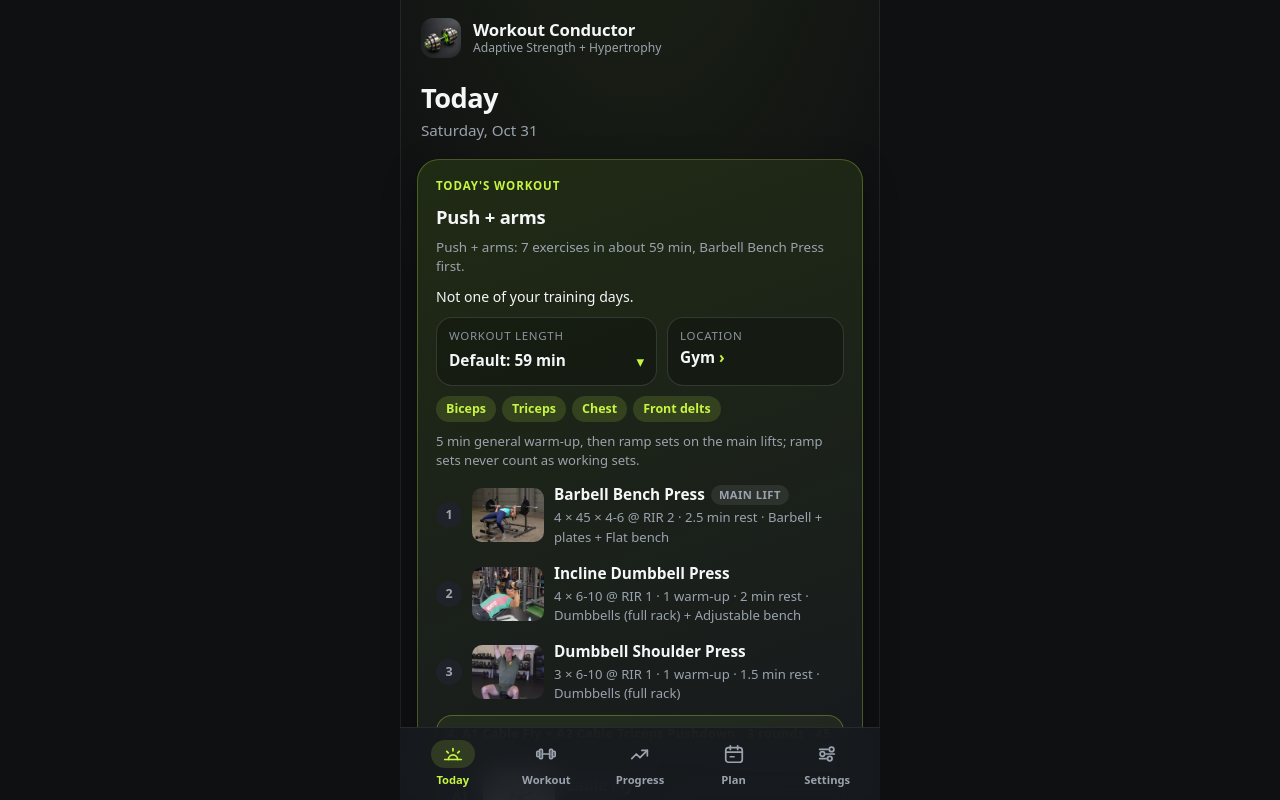
Test case: App recalibration › keeps the previous workout and explains when the engine fails
Expected: the heading "Today" is shown, [421, 79, 498, 116]
Select "30 min" in the dropdown with test id "duration-select" at (547, 361), box [449, 347, 644, 375]
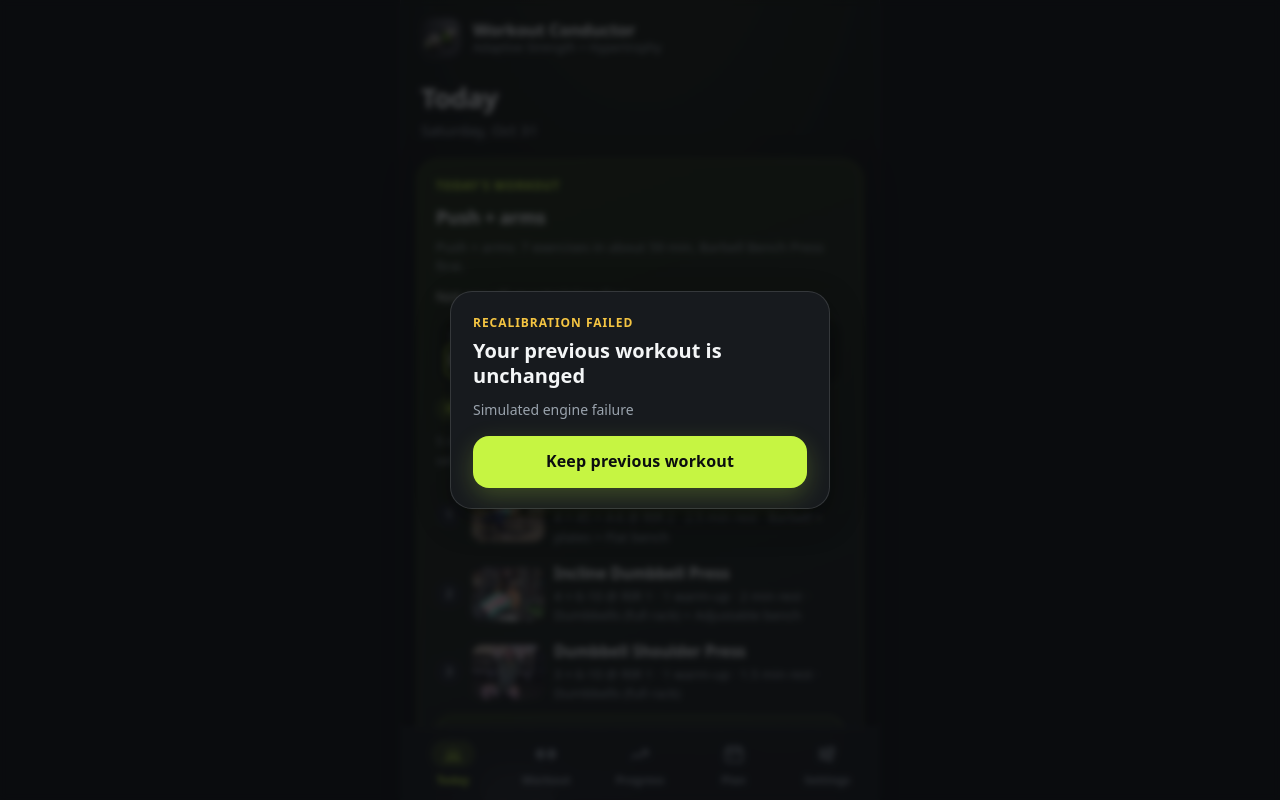
Now the dialog "Recalibration failed" shows "Your previous workout is unchanged", box [473, 336, 722, 388]
Now the dialog "Recalibration failed" shows "Simulated engine failure", box [473, 400, 634, 418]
Click the button "Keep previous workout" at (640, 462), box [473, 436, 807, 488]
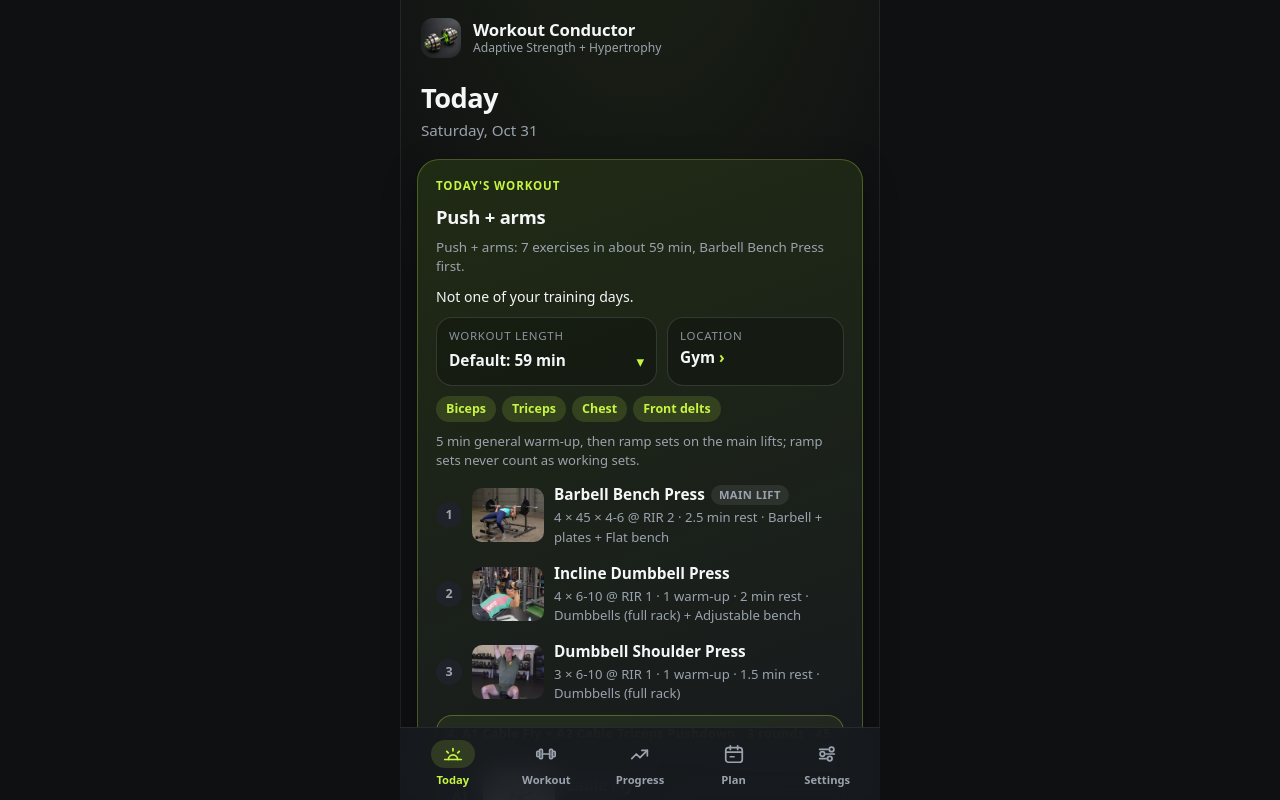
Now the dialog with test id "calibration-overlay" is gone
